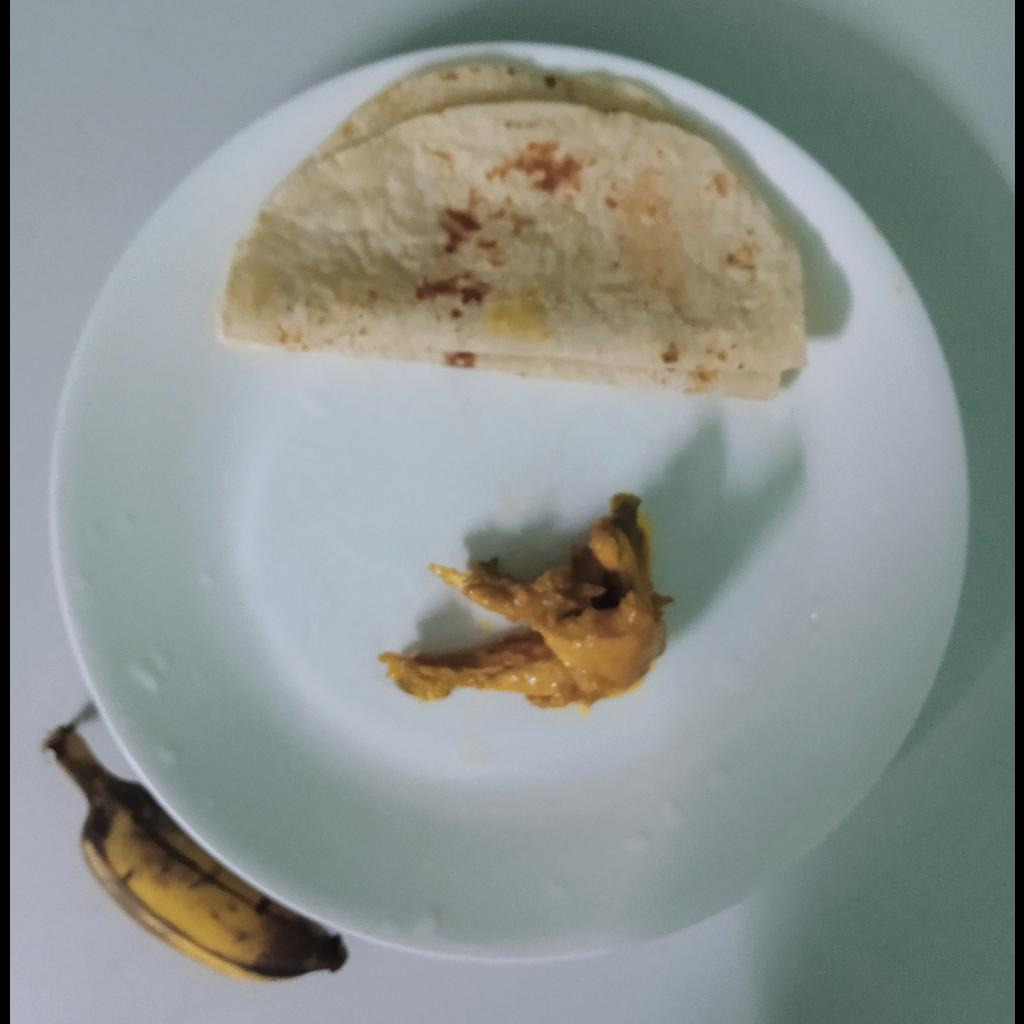banana: (40, 726, 348, 981)
chicken: (376, 492, 674, 717)
ruti: (217, 61, 804, 402)
